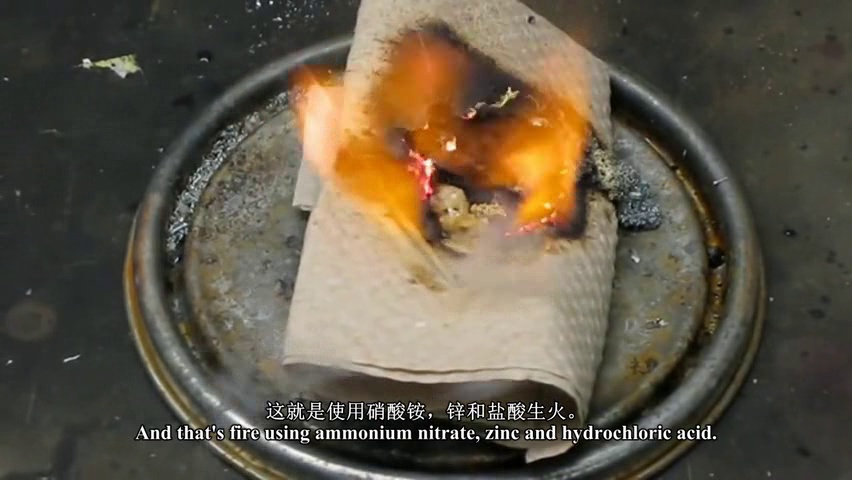fire: (284, 26, 450, 250), (482, 34, 596, 238)
